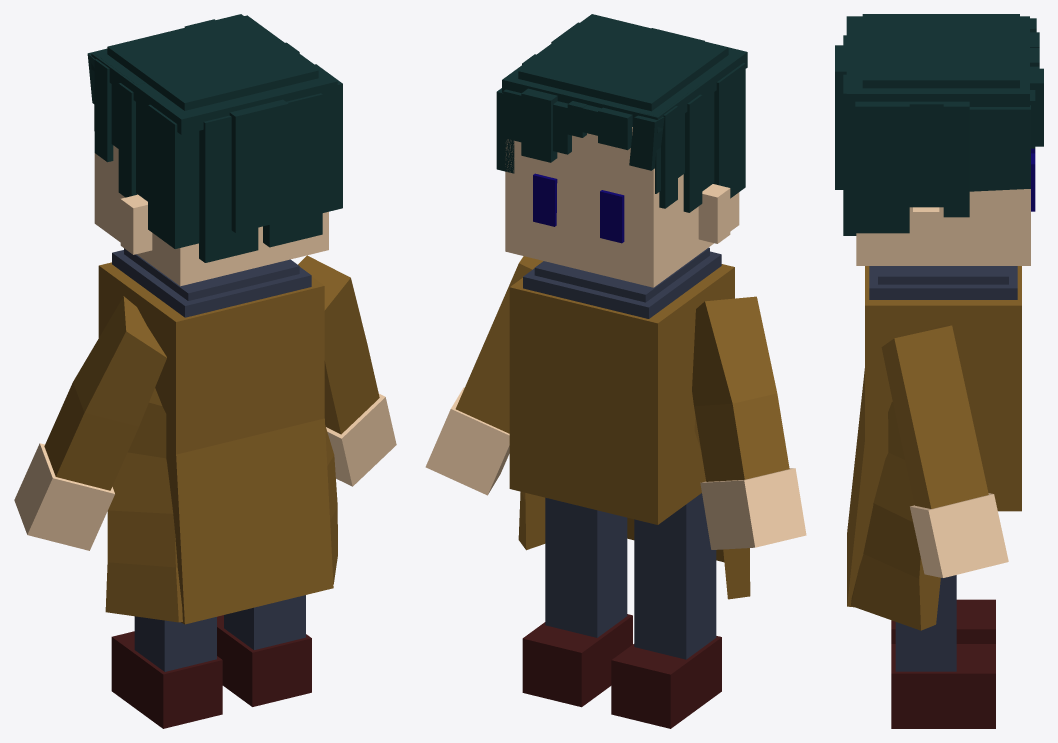
Rendered from Pollice2.fbx.
3 renders of one model, left to right at view 1: azimuth 30°, elevation 25°; view 2: azimuth 150°, elevation 25°; view 3: azimuth 270°, elevation 25°, orthographic. The views are drawn at different scales.
Visible parts, largest first — view 1: 身体.012, 身体.011, 腕左.003, 身体.013, 前髪.057, 前髪.077, 腕右.003, 左足2.003, 顔.003, 前髪.066, 左手.003, 前髪.059 (+15 smaller); view 2: 身体.011, 顔.003, 腕左.003, 前髪.057, 左足.003, 右足.003, 左足2.003, 右足2.003, 左手.003, 右手.003, 腕右.003, 前髪.066 (+19 smaller); view 3: 身体.011, 腕右.003, 前髪.057, 身体.014, 顔.003, 右足2.003, 前髪.063, 右手.003, 前髪.061, 前髪.058, 前髪.064, 右足.003 (+9 smaller).
Part boxes in pixels (x1=…): 身体.012: x1=164, y1=410, x2=333, y2=624; 身体.011: x1=98, y1=262, x2=324, y2=523; 腕左.003: x1=44, y1=296, x2=166, y2=490; 身体.013: x1=105, y1=388, x2=182, y2=622; 前髪.057: x1=107, y1=14, x2=318, y2=110; 前髪.077: x1=229, y1=99, x2=288, y2=232; 腕右.003: x1=298, y1=255, x2=379, y2=434; 左足2.003: x1=111, y1=631, x2=222, y2=728; 顔.003: x1=94, y1=145, x2=328, y2=286; 前髪.066: x1=148, y1=104, x2=199, y2=248; 左手.003: x1=14, y1=443, x2=114, y2=550; 前髪.059: x1=263, y1=93, x2=322, y2=247; 身体.011: x1=509, y1=264, x2=734, y2=524; 顔.003: x1=505, y1=127, x2=739, y2=287; 腕左.003: x1=692, y1=296, x2=789, y2=481; 前髪.057: x1=518, y1=14, x2=728, y2=111; 左足.003: x1=634, y1=493, x2=716, y2=659; 右足.003: x1=545, y1=497, x2=627, y2=637; 左足2.003: x1=611, y1=636, x2=721, y2=728; 右足2.003: x1=522, y1=614, x2=632, y2=707; 左手.003: x1=700, y1=468, x2=806, y2=549; 右手.003: x1=425, y1=387, x2=509, y2=495; 腕右.003: x1=455, y1=256, x2=543, y2=433; 前髪.066: x1=713, y1=63, x2=745, y2=198; 身体.011: x1=865, y1=266, x2=1021, y2=511; 腕右.003: x1=881, y1=324, x2=988, y2=508; 前髪.057: x1=862, y1=14, x2=1019, y2=88; 身体.014: x1=851, y1=401, x2=940, y2=630; 顔.003: x1=856, y1=189, x2=1030, y2=265; 右足2.003: x1=891, y1=644, x2=995, y2=728; 前髪.063: x1=855, y1=101, x2=909, y2=233; 右手.003: x1=910, y1=493, x2=1008, y2=577; 前髪.061: x1=969, y1=105, x2=1030, y2=191; 前髪.058: x1=846, y1=16, x2=1029, y2=109; 前髪.064: x1=900, y1=101, x2=954, y2=207; 右足.003: x1=895, y1=575, x2=956, y2=671.
Size of the model in its own units: 497 by 815 by 239.
